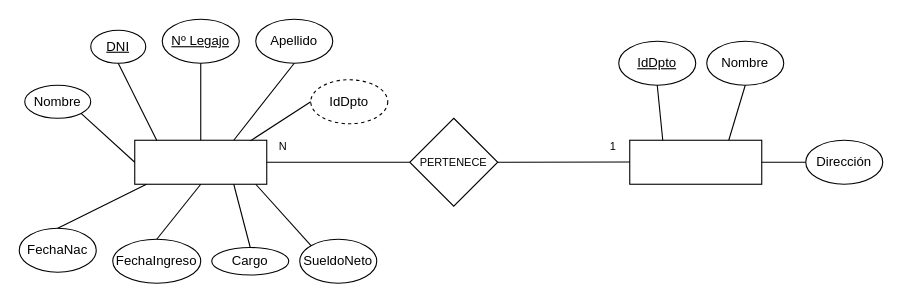
The diagram is 902 pixels wide and 303 high, and some of its shapes have lost their labels. The centre of each missing label's shape, as x and y in pixels:
"DEPARTAMENTO" belongs at point (695, 161).
"EMPLEADO" belongs at point (200, 161).
